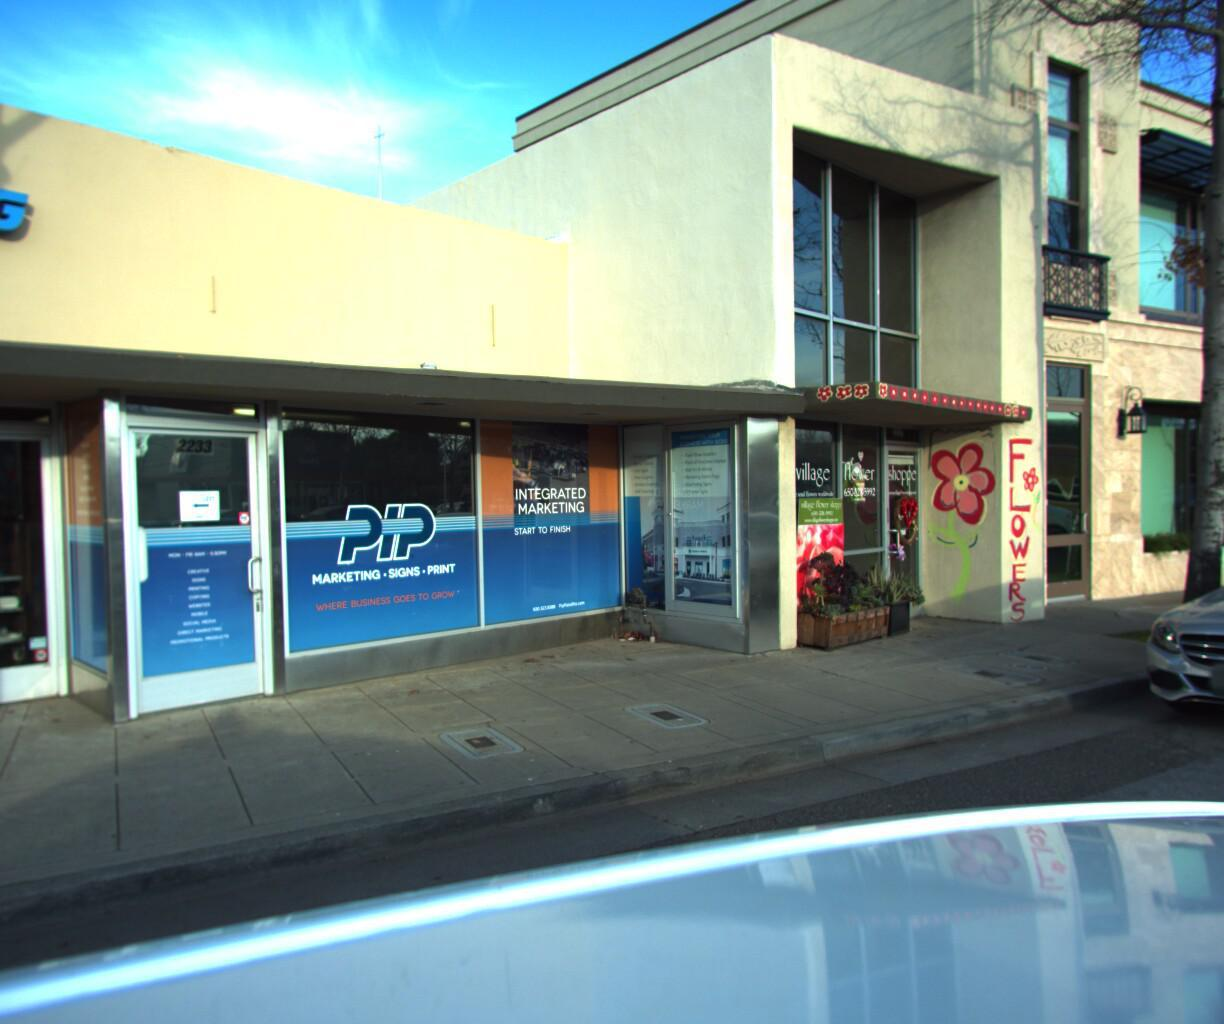car: (1116, 484, 1224, 782)
